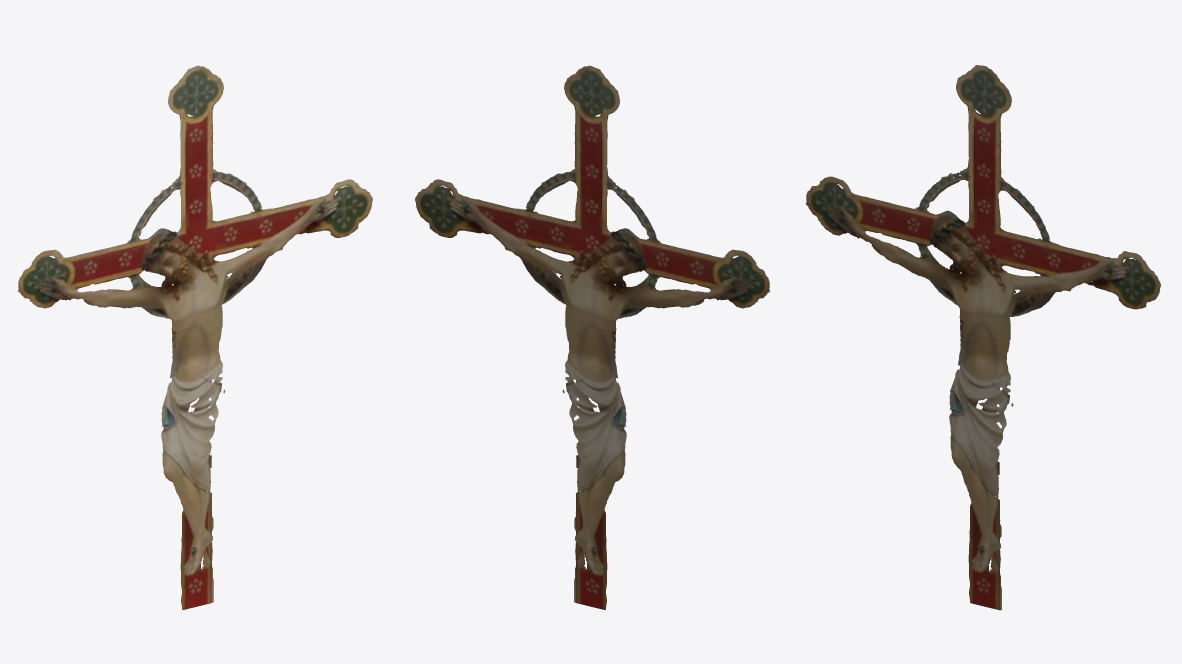
Rendered from wall_cross_1.fbx.
3 renders of one model, left to right at view 1: azimuth 30°, elevation 25°; view 2: azimuth 150°, elevation 25°; view 3: azimuth 330°, elevation 25°, orthographic.
Visible parts, largest first — view 1: wall_cross_01; view 2: wall_cross_01; view 3: wall_cross_01.
Part boxes in pixels (<box>): wall_cross_01: <box>18,65,372,609</box>; wall_cross_01: <box>415,65,769,609</box>; wall_cross_01: <box>805,65,1160,610</box>.
Bounding box in the file's own units: 48 × 72.47 × 2.61e-05.
